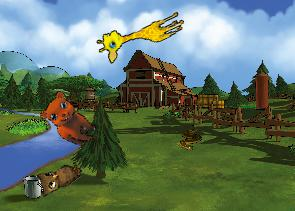bear: (35, 87, 105, 150)
giraffe: (93, 0, 187, 66)
owl: (30, 150, 84, 201)
